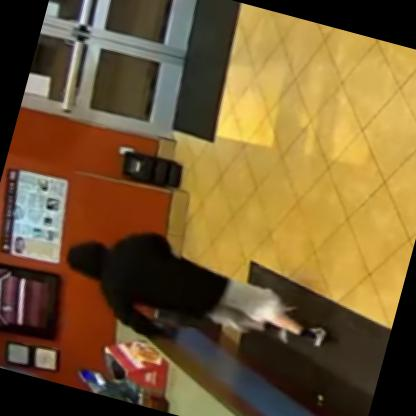Human Body: (46, 200, 351, 392)
